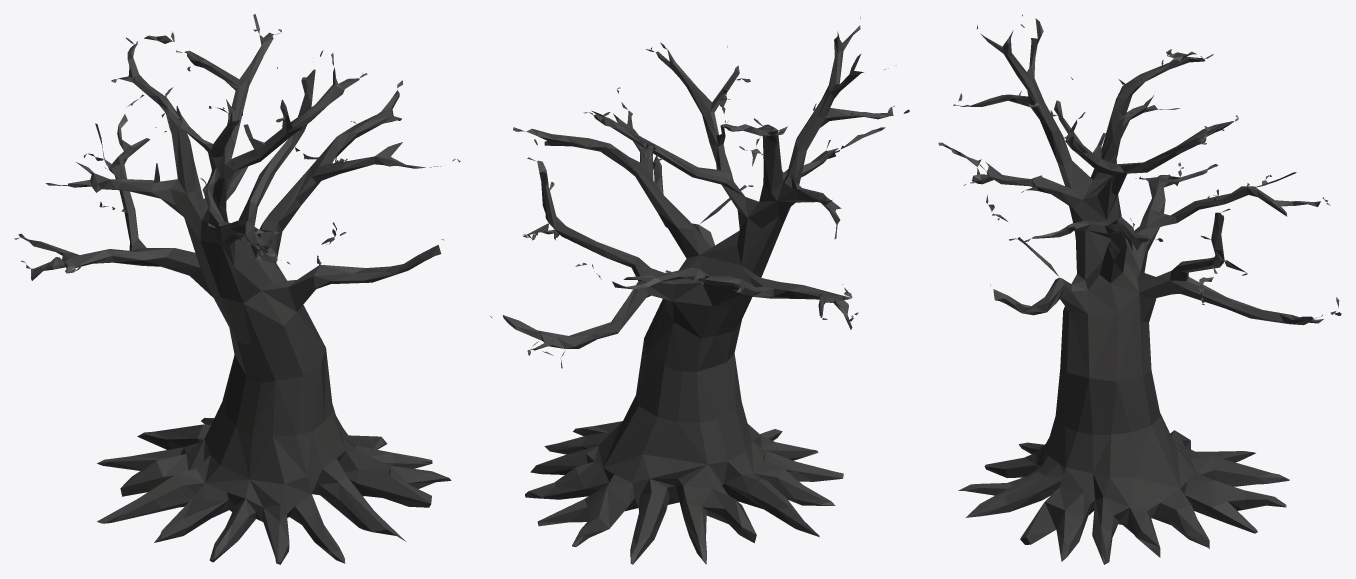
File: wh-reachtree-c.glb
The picture shows the model from 3 angles, left to right: view 1: azimuth 30°, elevation 25°; view 2: azimuth 150°, elevation 25°; view 3: azimuth 270°, elevation 25°; orthographic projection. The views are drawn at different scales.
Parts seen in each view (by area): view 1: geometry_0; view 2: geometry_0; view 3: geometry_0.
Part boxes in pixels (bbox=[...]): geometry_0: bbox=[14, 14, 460, 564]; geometry_0: bbox=[490, 17, 909, 564]; geometry_0: bbox=[938, 14, 1341, 564].
Bounding box in the file's own units: 1.42 × 1.73 × 1.47.
Materials: 1 (1 with a texture image).
